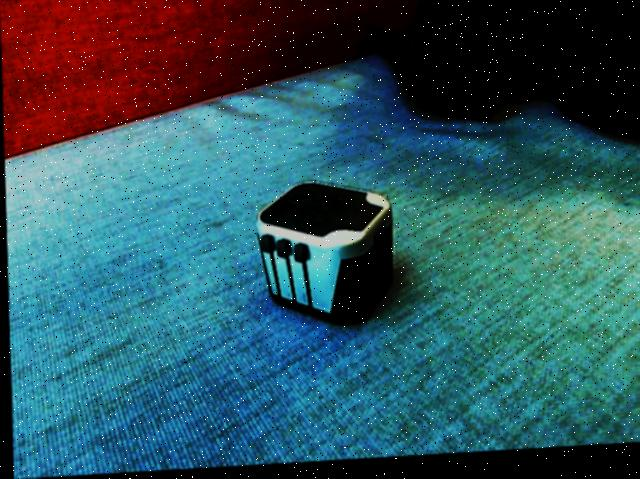adapter: (252, 181, 393, 333)
